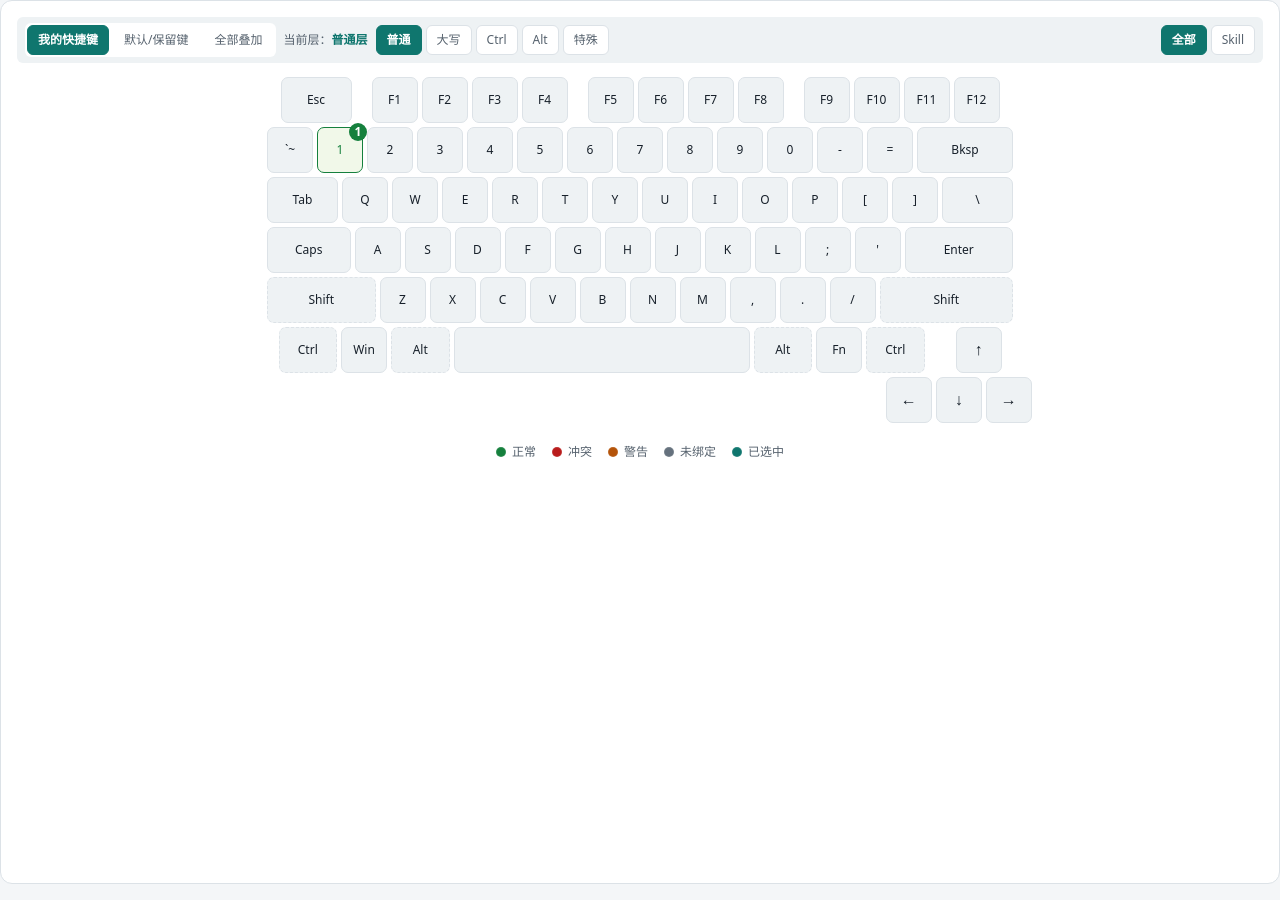
Test case: keyboard visualizer fixed typography › uses a concise skill label in the hover card for long direct skill command names
Expected: the text "1" is shown, [337, 141, 344, 158]
Hover over the text "1" at (340, 150), box [317, 127, 363, 173]
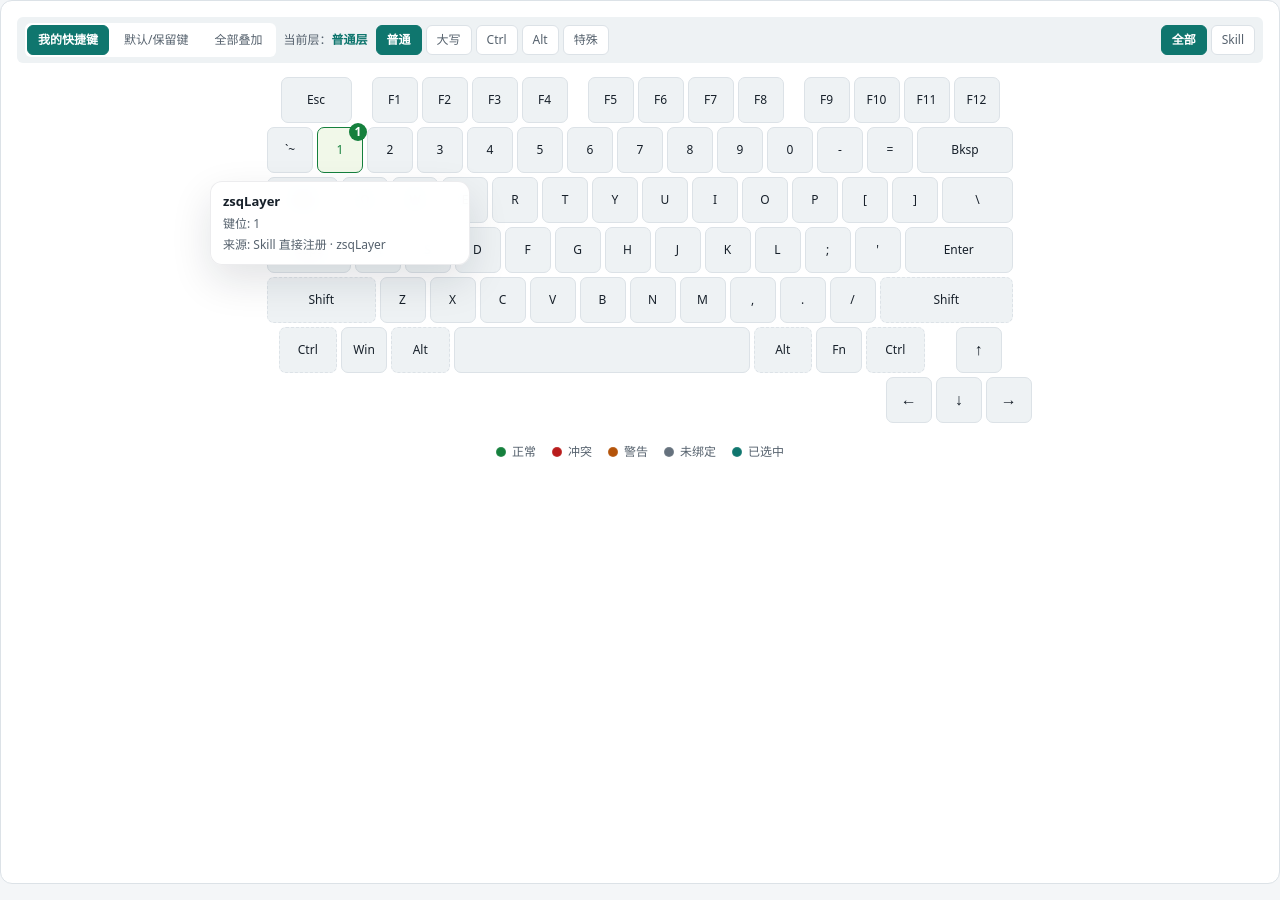
Expected: the text "zsqLayer" is shown, [223, 192, 280, 210]
Expected: the text "来源: Skill 直接注册 · zsqLayer" is shown, [223, 236, 386, 253]
